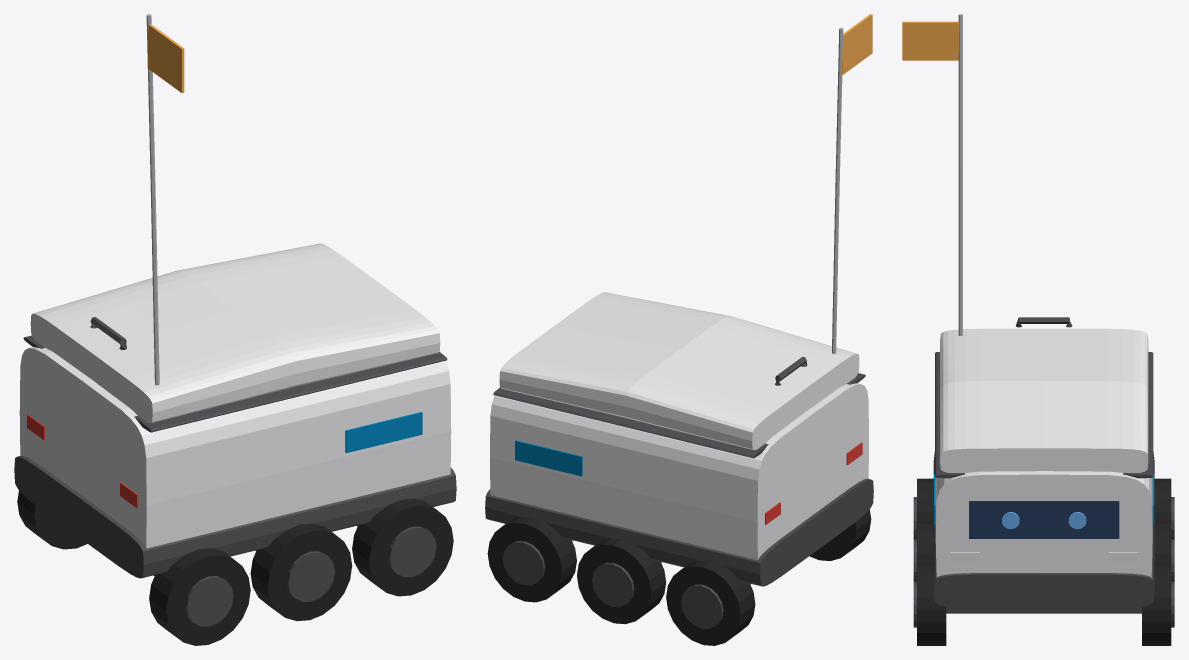
Rendered from SM_Prop_RobotDelivery.fbx.
3 views of the same model, side by side, from view 1: azimuth 30°, elevation 25°; view 2: azimuth 150°, elevation 25°; view 3: azimuth 270°, elevation 25° (orthographic). The views are drawn at different scales.
Parts seen in each view (by area): view 1: SM_Prop_RobotDelivery; view 2: SM_Prop_RobotDelivery; view 3: SM_Prop_RobotDelivery.
Boxes of the visible parts, x1,y1,x2,y2 form: SM_Prop_RobotDelivery: (14,14,456,645); SM_Prop_RobotDelivery: (485,14,873,645); SM_Prop_RobotDelivery: (902,14,1174,645).
Bounding box in the file's own units: 0.6528 × 0.74 × 1.4.
